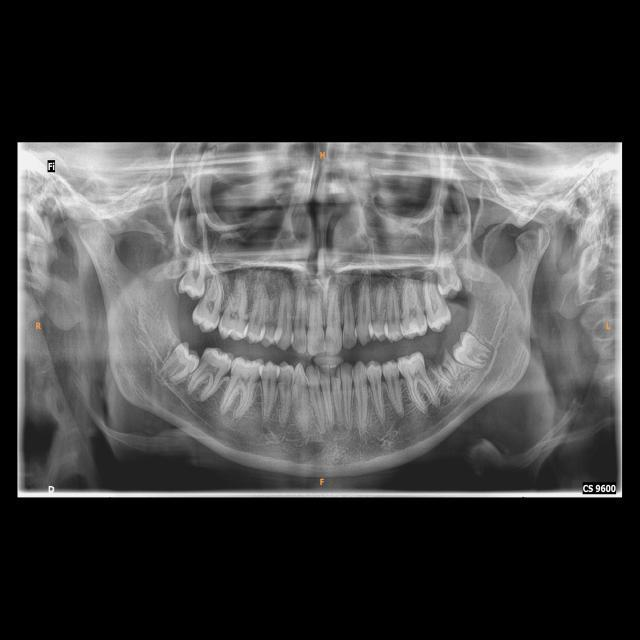kirik: (428, 347, 452, 373)
